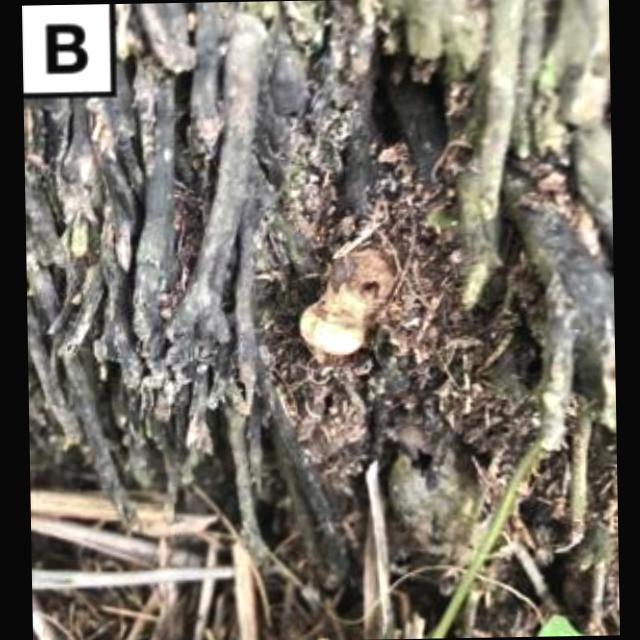primordium: (297, 289, 375, 358)
